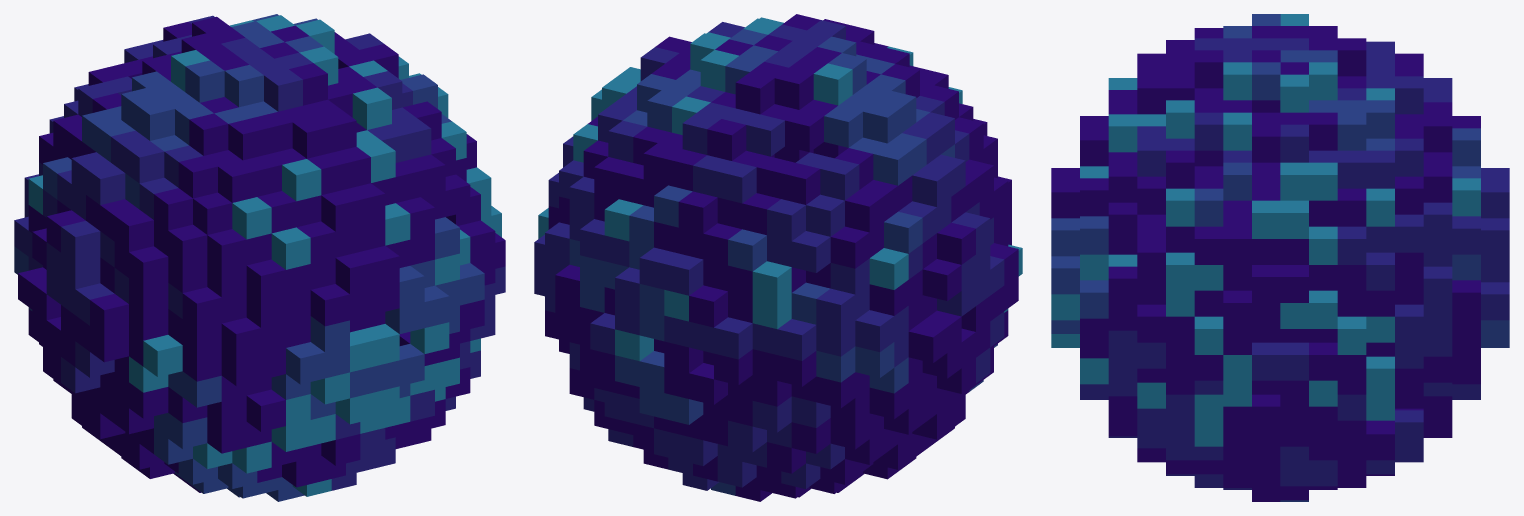
The model's file is planeta-16e.obj.
3 renders of one model, left to right at view 1: azimuth 30°, elevation 25°; view 2: azimuth 150°, elevation 25°; view 3: azimuth 270°, elevation 25°, orthographic.
Bounding box in the file's own units: 1.6 × 1.6 × 1.6.
1 material, 1 textured.
